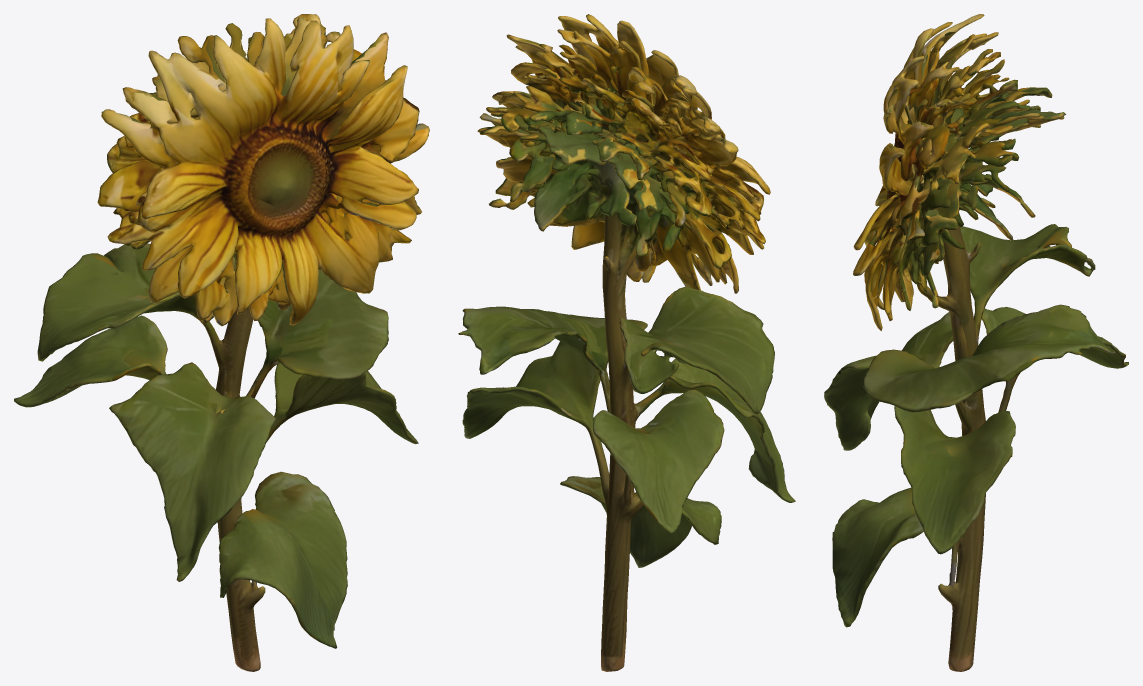
The model's file is next3d.ai-Generated-Model-3cv4pp.glb.
3 renders of one model, left to right at view 1: azimuth 30°, elevation 25°; view 2: azimuth 150°, elevation 25°; view 3: azimuth 270°, elevation 25°, orthographic. The views are drawn at different scales.
Visible parts, largest first — view 1: texture_pbr_v128; view 2: texture_pbr_v128; view 3: texture_pbr_v128.
Part boxes in pixels (x1,y1,x2,y2): texture_pbr_v128: [14, 14, 429, 671]; texture_pbr_v128: [458, 14, 795, 671]; texture_pbr_v128: [824, 14, 1128, 671].
Bounding box in the file's own units: 0.6408 × 1.19 × 0.512.
1 material, 1 textured.
